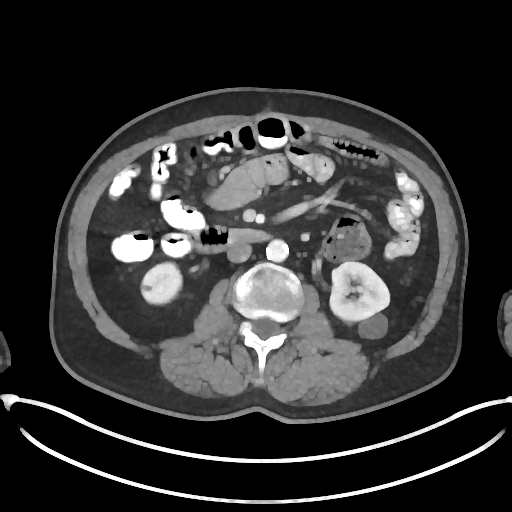Lesion: (138, 280, 158, 295)
